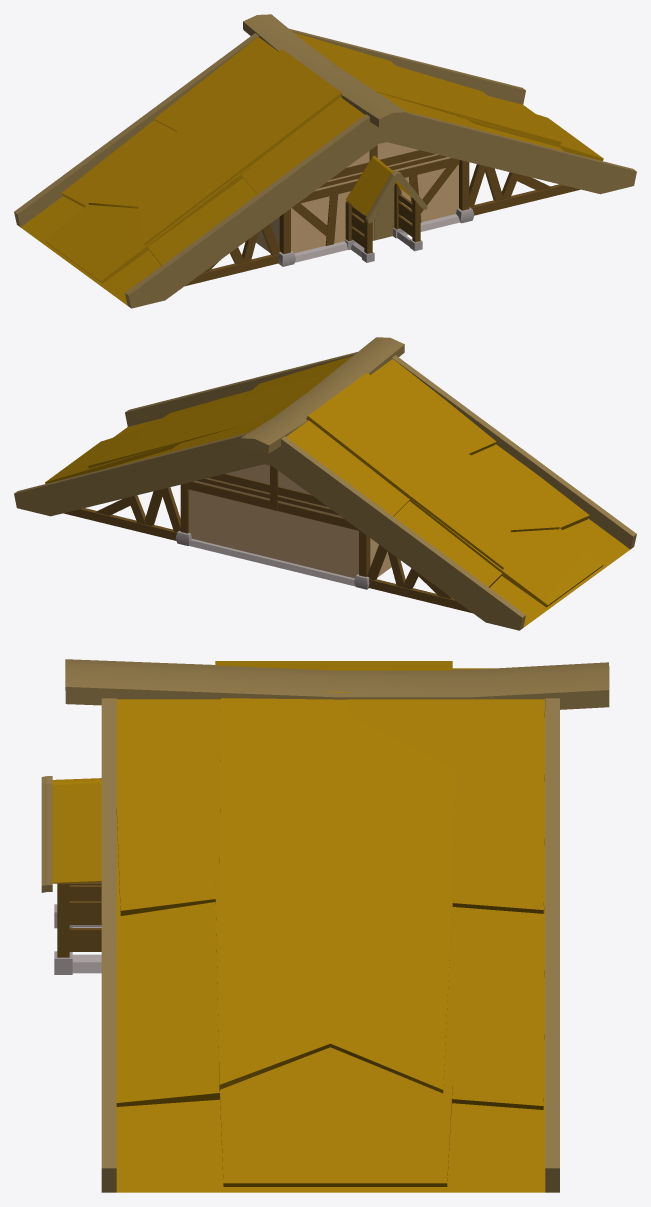
The model's file is mesh_Ramp_House_3.fbx.
The picture shows the model from 3 angles, top to bottom: view 1: azimuth 30°, elevation 25°; view 2: azimuth 150°, elevation 25°; view 3: azimuth 270°, elevation 25°; orthographic projection. The views are drawn at different scales.
Parts seen in each view (by area): view 1: Ramp_House_3; view 2: Ramp_House_3; view 3: Ramp_House_3.
Part boxes in pixels (<box>): Ramp_House_3: <box>14,14,636,308</box>; Ramp_House_3: <box>14,337,636,630</box>; Ramp_House_3: <box>41,659,609,1192</box>.
Bounding box in the file's own units: 2297 × 609 × 1111.
1 material, 1 textured.
